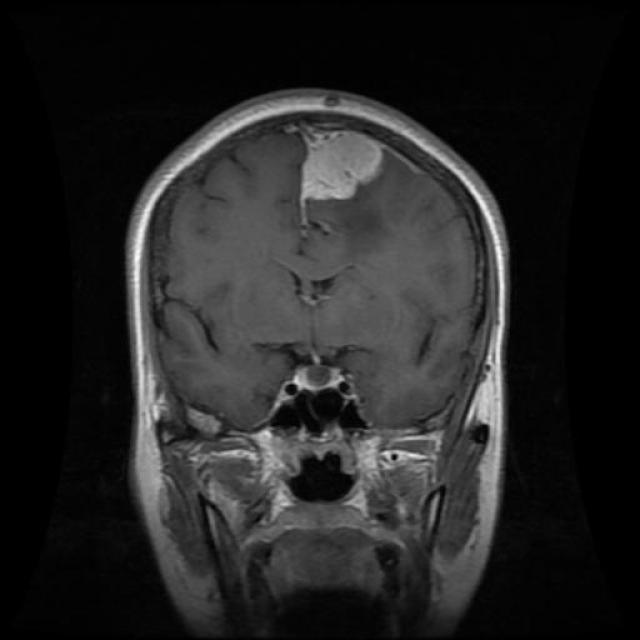meningioma: (301, 132, 384, 201)
